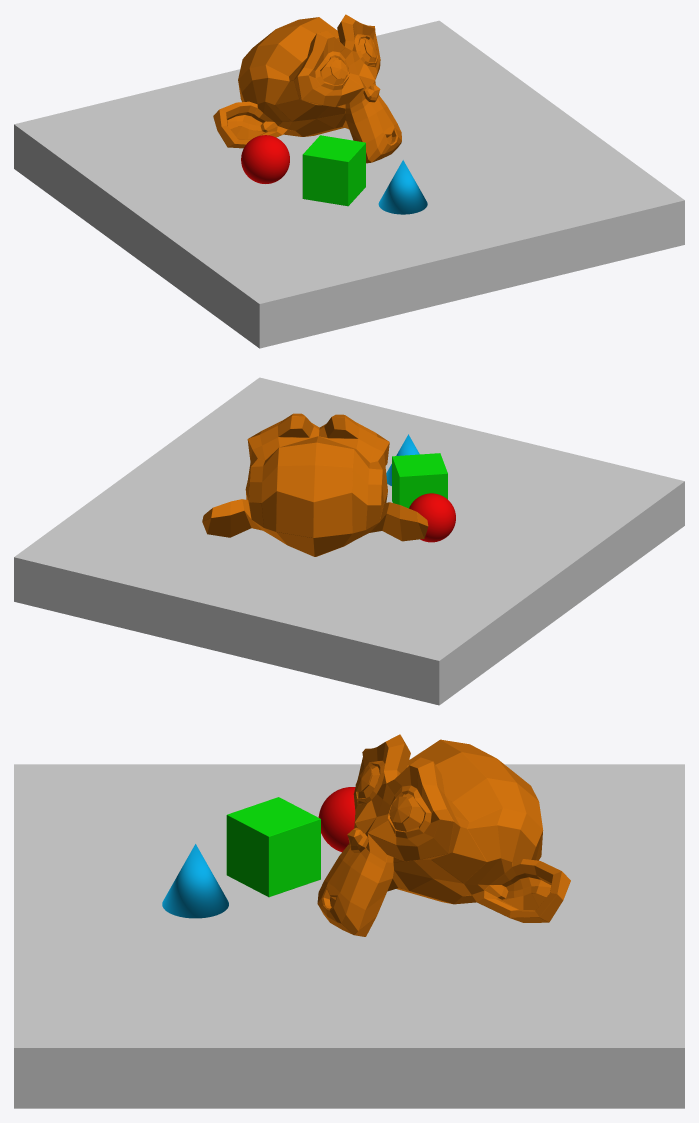
Rendered from primitives.fbx.
3 views of the same model, one above another, from view 1: azimuth 30°, elevation 25°; view 2: azimuth 150°, elevation 25°; view 3: azimuth 270°, elevation 25° (orthographic). The views are drawn at different scales.
Visible parts, largest first — view 1: Plate, Suzanne, Cube, Icosphere, Cone; view 2: Plate, Suzanne, Cube, Icosphere; view 3: Plate, Suzanne, Cube, Cone, Icosphere.
Boxes of the visible parts, left/top/right/bottom form: Plate: left=14, top=20, right=684, bottom=348; Suzanne: left=213, top=14, right=401, bottom=163; Cube: left=302, top=135, right=365, bottom=206; Icosphere: left=241, top=135, right=289, bottom=183; Cone: left=378, top=160, right=427, bottom=214; Plate: left=14, top=377, right=684, bottom=705; Suzanne: left=202, top=413, right=428, bottom=556; Cube: left=392, top=453, right=447, bottom=508; Icosphere: left=409, top=493, right=455, bottom=542; Plate: left=14, top=764, right=684, bottom=1108; Suzanne: left=317, top=734, right=570, bottom=936; Cube: left=226, top=797, right=320, bottom=897; Cone: left=162, top=844, right=228, bottom=918; Icosphere: left=318, top=787, right=355, bottom=851.
Size of the model in its own units: 2000 by 735 by 2000.
